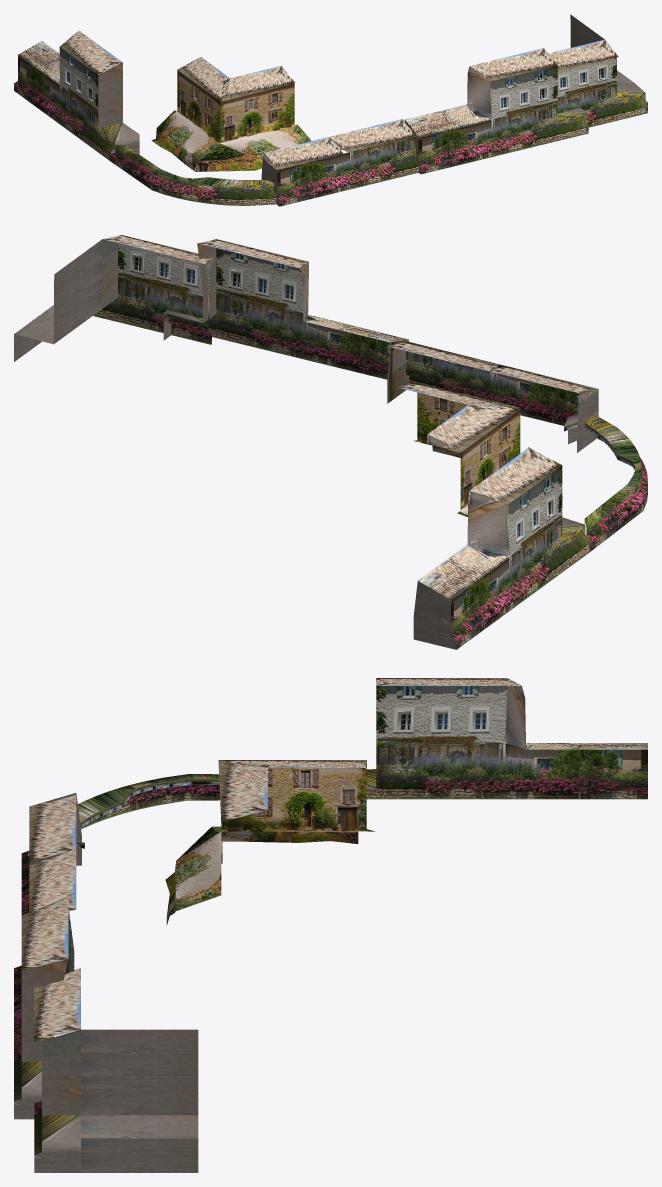
The model's file is house_provance.fbx.
3 views of the same model, one above another, from view 1: azimuth 30°, elevation 25°; view 2: azimuth 150°, elevation 25°; view 3: azimuth 270°, elevation 25° (orthographic). The views are drawn at different scales.
Visible parts, largest first — view 1: polySurface18; view 2: polySurface18; view 3: polySurface18.
Part boxes in pixels (box(x1,y1,x2,y2)): polySurface18: box(14, 14, 647, 206); polySurface18: box(14, 235, 647, 649); polySurface18: box(14, 678, 647, 1172).
Size of the model in its own units: 92.23 by 15.73 by 66.17.
